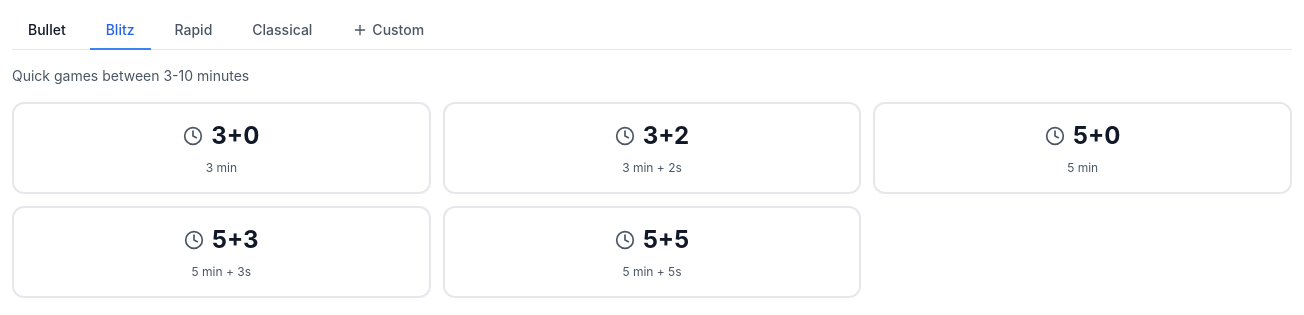
Test: TimeControlSelector › Classical Time Controls (Requirement 5.4) › should display all classical time controls
What coordinates should you click on to do the following:
click the button with test id "category-tab-classical"
I would click on:
 (282, 31)
Its box is [236, 12, 328, 50].
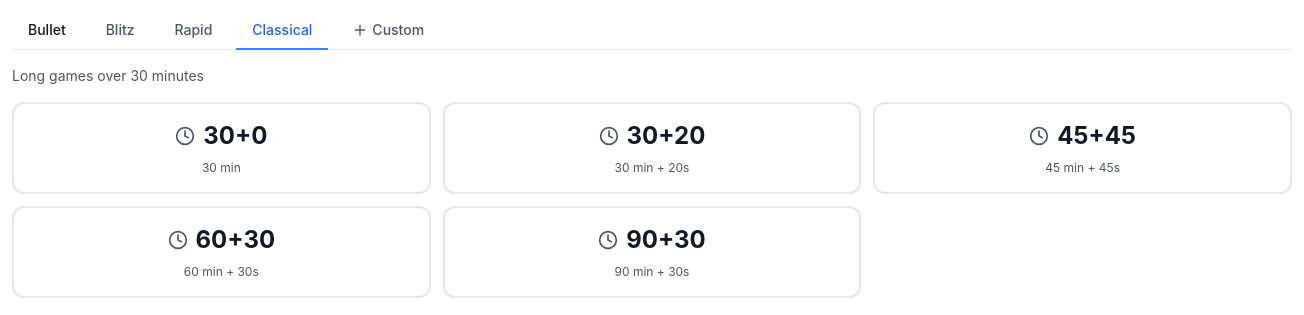
Expected: the button with test id "time-control-classical-30+0" is shown, [12, 102, 431, 194]
Expected: the button with test id "time-control-classical-30+20" is shown, [443, 102, 861, 194]
Expected: the button with test id "time-control-classical-45+45" is shown, [873, 102, 1292, 194]
